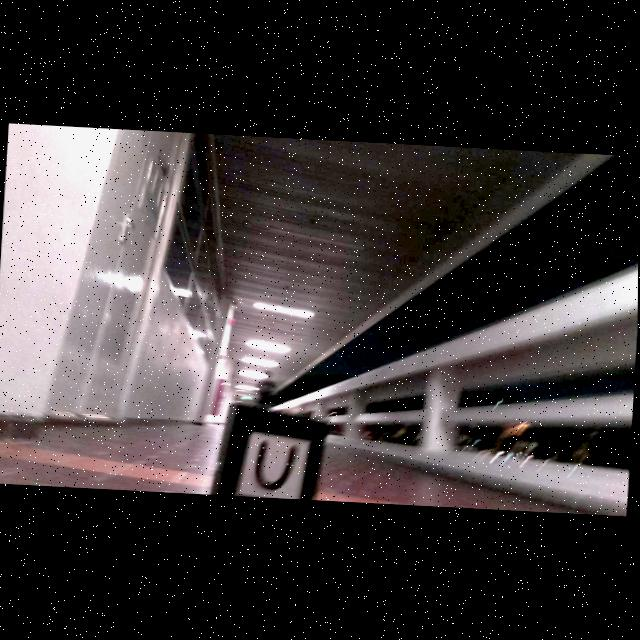U: (256, 440, 299, 491)
